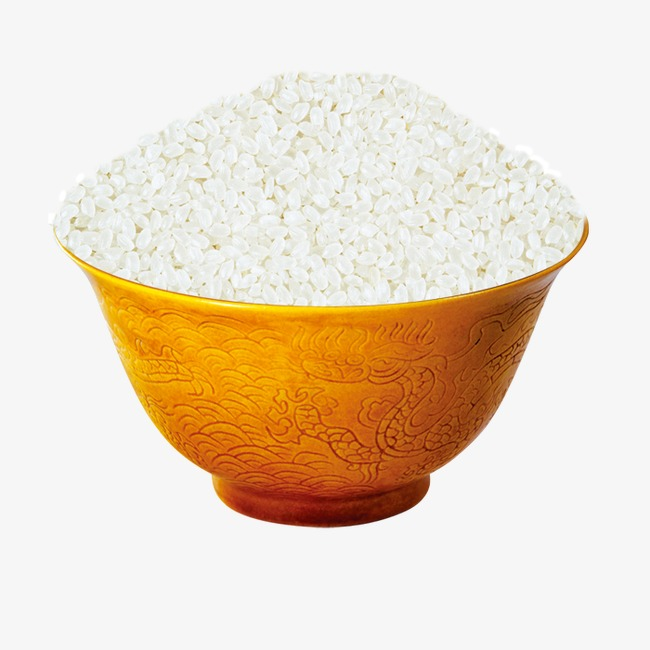plain rice: (64, 75, 580, 301)
